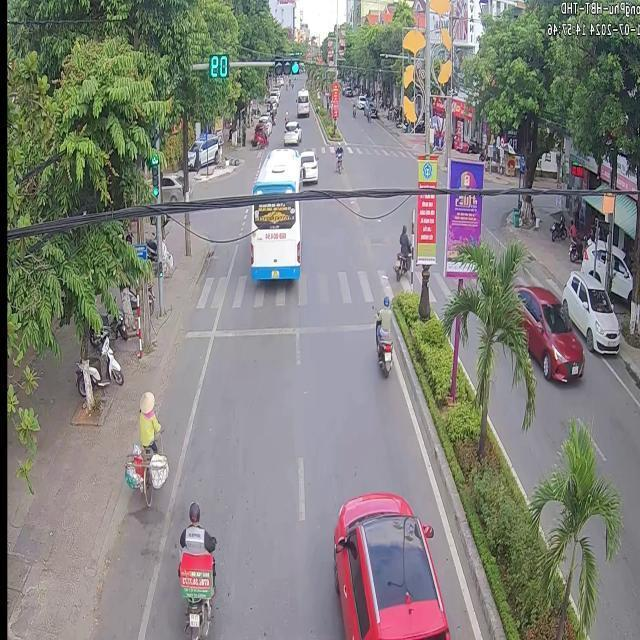car: (333, 491, 448, 638), (249, 148, 300, 278)
green_light: (272, 56, 298, 74), (149, 154, 158, 198)
motobike: (177, 500, 214, 638), (372, 286, 391, 384), (392, 222, 410, 284)
stop_line: (182, 323, 381, 337)
